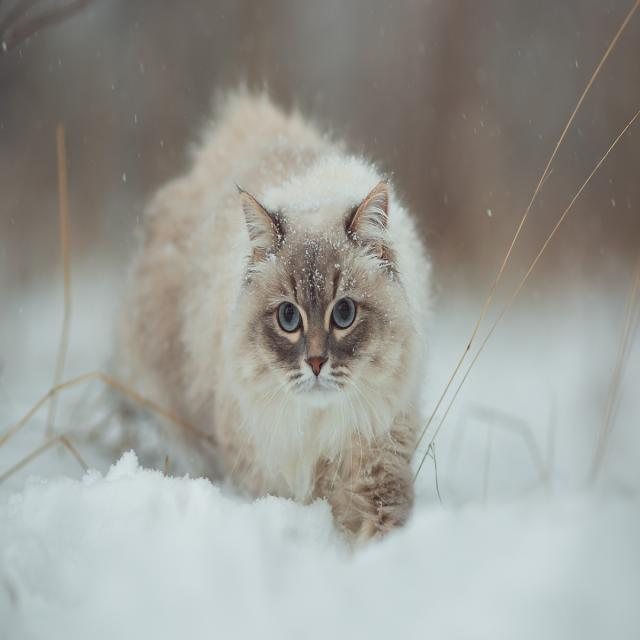Neva Masquerade: (103, 86, 434, 551)
